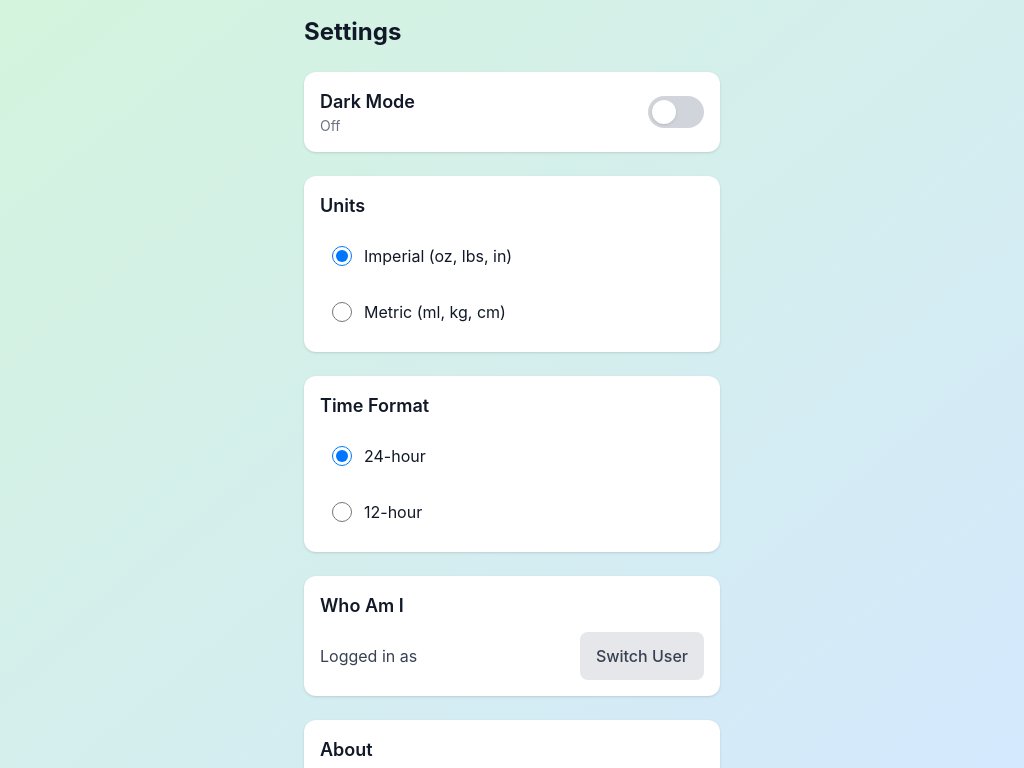
it: Settings — Time Format › updates the radio selection immediately on click
Click the radio button labelled "12-hour" at (342, 512), box [332,502,352,522]
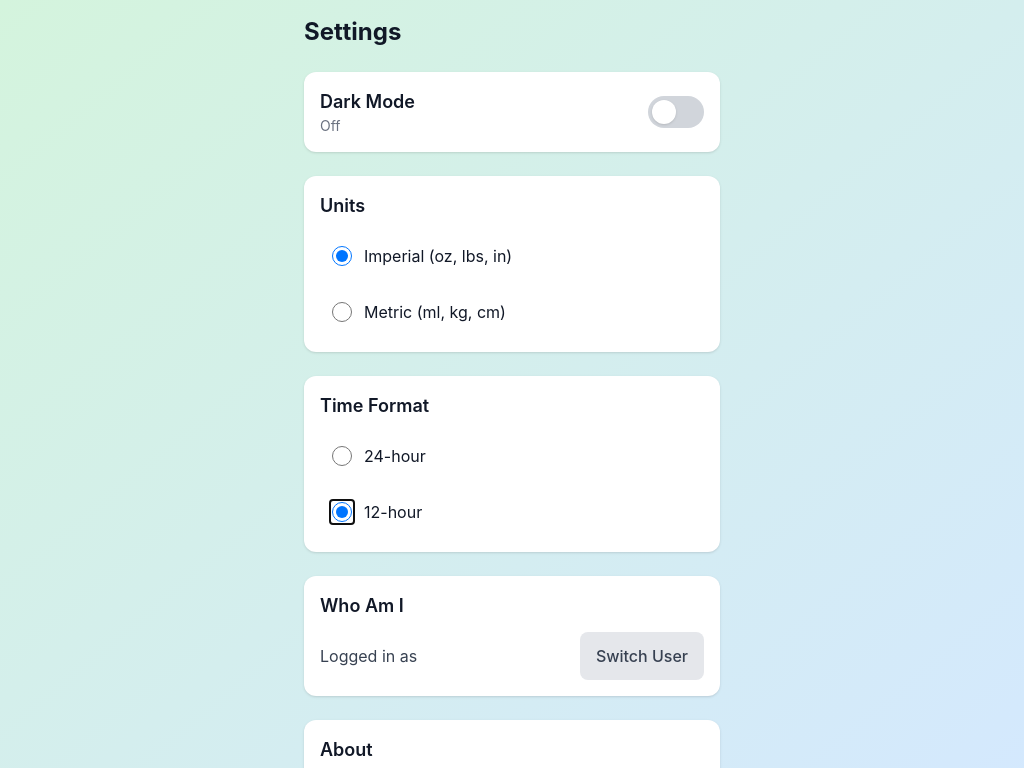
Now the radio button labelled "12-hour" is checked, box [332,502,352,522]
Now the radio button labelled "24-hour" is not checked, box [332,446,352,466]
